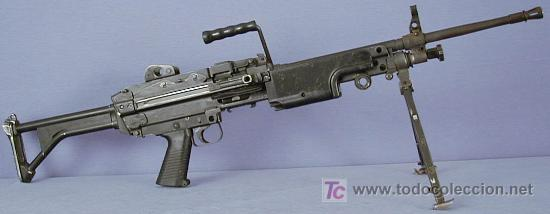rifle: (9, 7, 543, 195)
